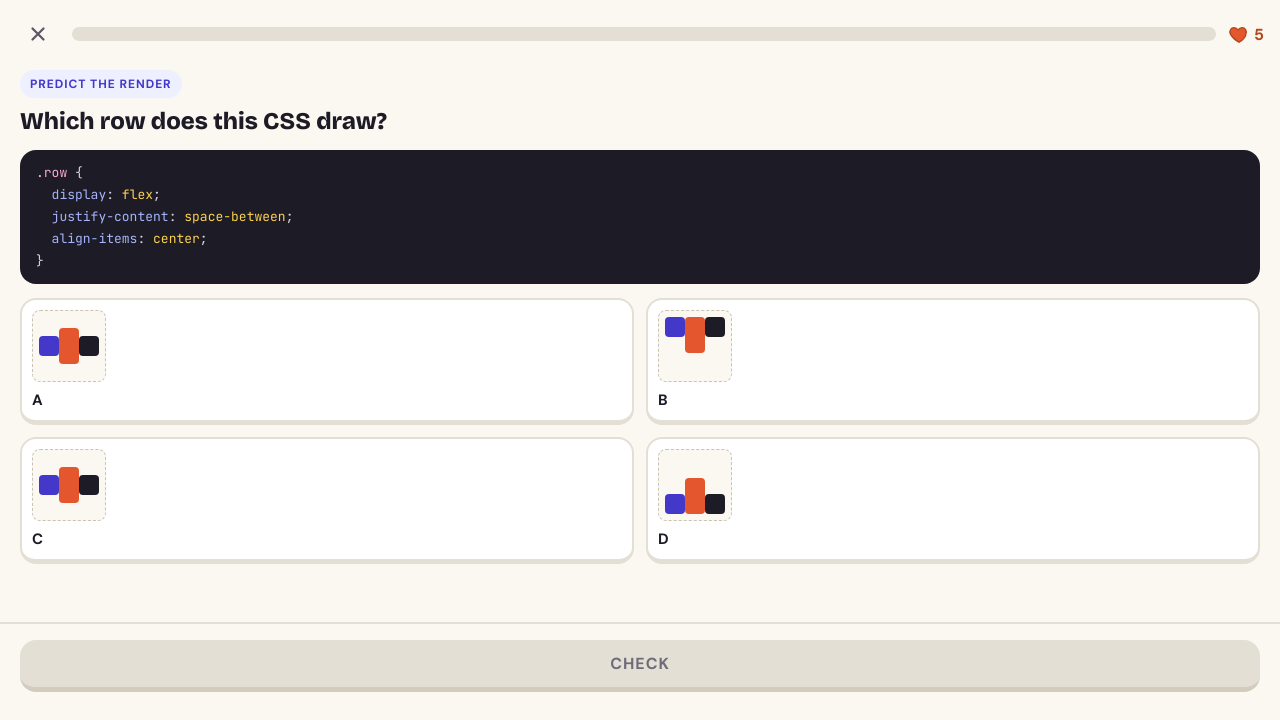
Test: Quiz with predict questions › checks a correct pick and shows praise, the explanation and a focused Continue
This screenshot has width=1280, height=720.
Click the button named "Option C: spread out, centered vertically".
click(69, 485)  # box [20,437,634,564]
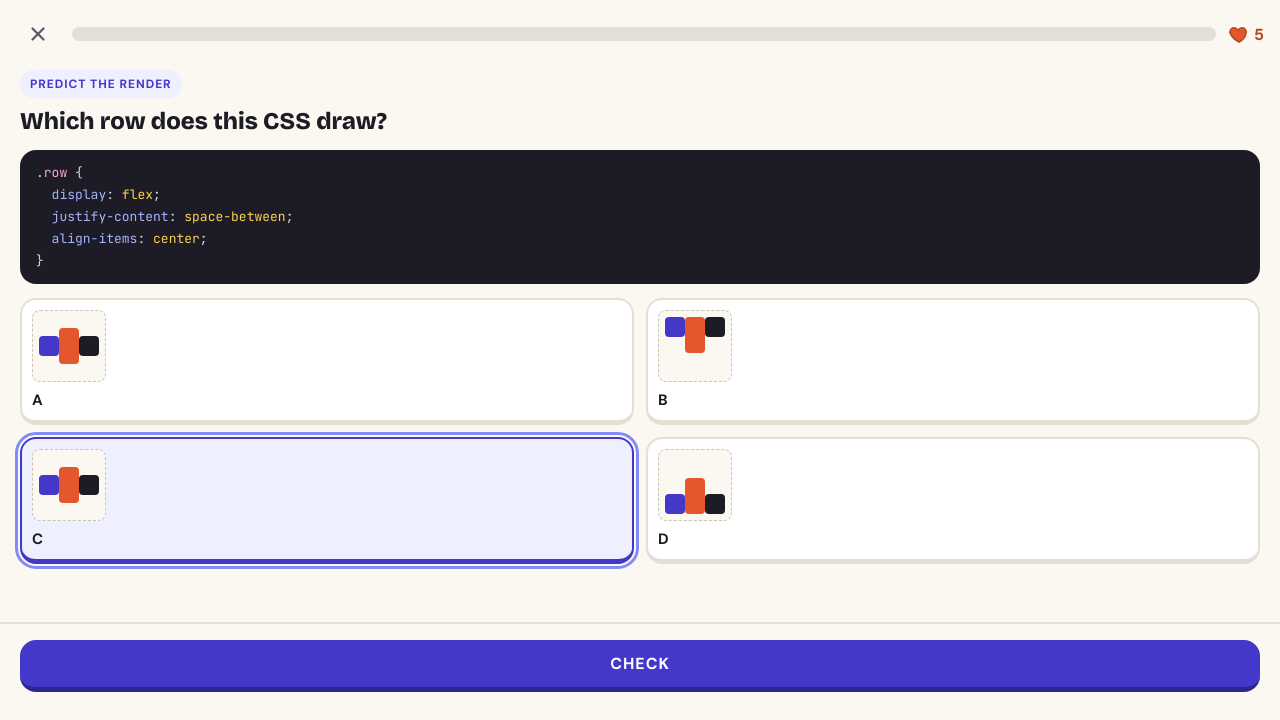
Expected: the button named "Option C: spread out, centered vertically" is pressed, [20,437,634,564]
Click the button "Check".
click(640, 666)  # box [20,640,1260,692]
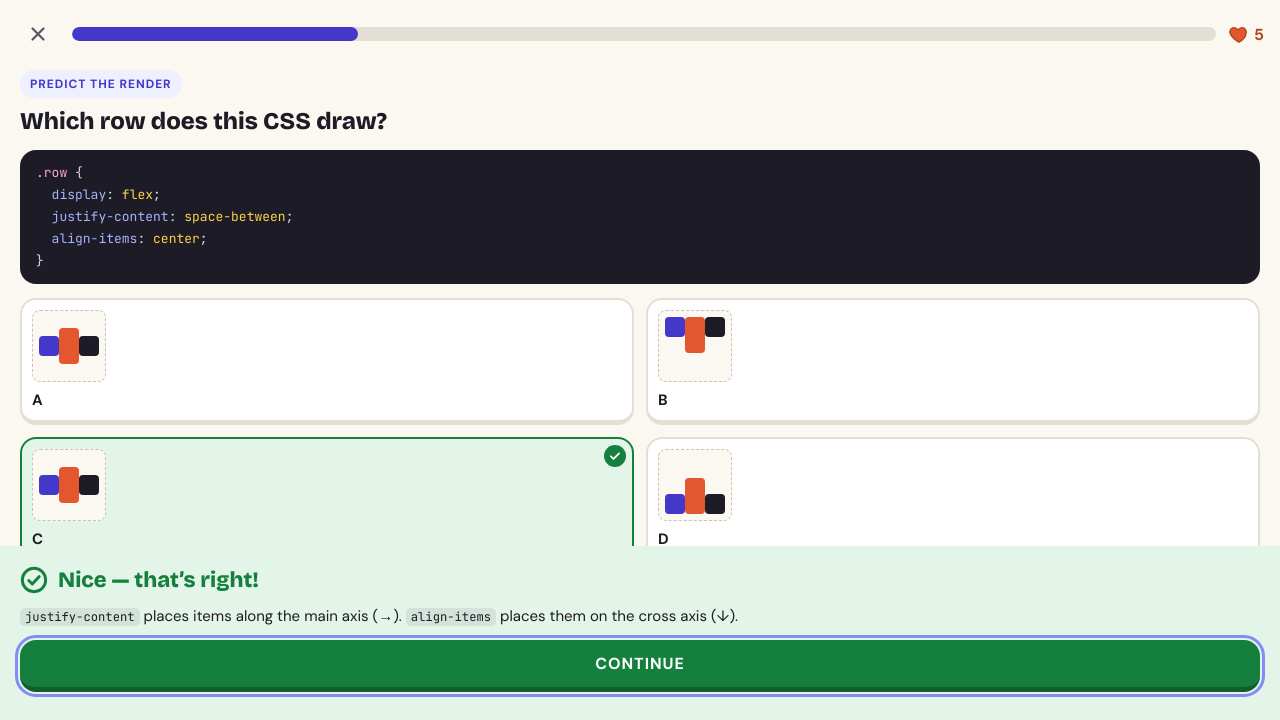
Expected: the button "C" is shown, [20,437,634,546]
Expected: the element named "Feedback" shows "Nice — that’s right!", [58,567,259,593]
Expected: the button "Check" is gone
